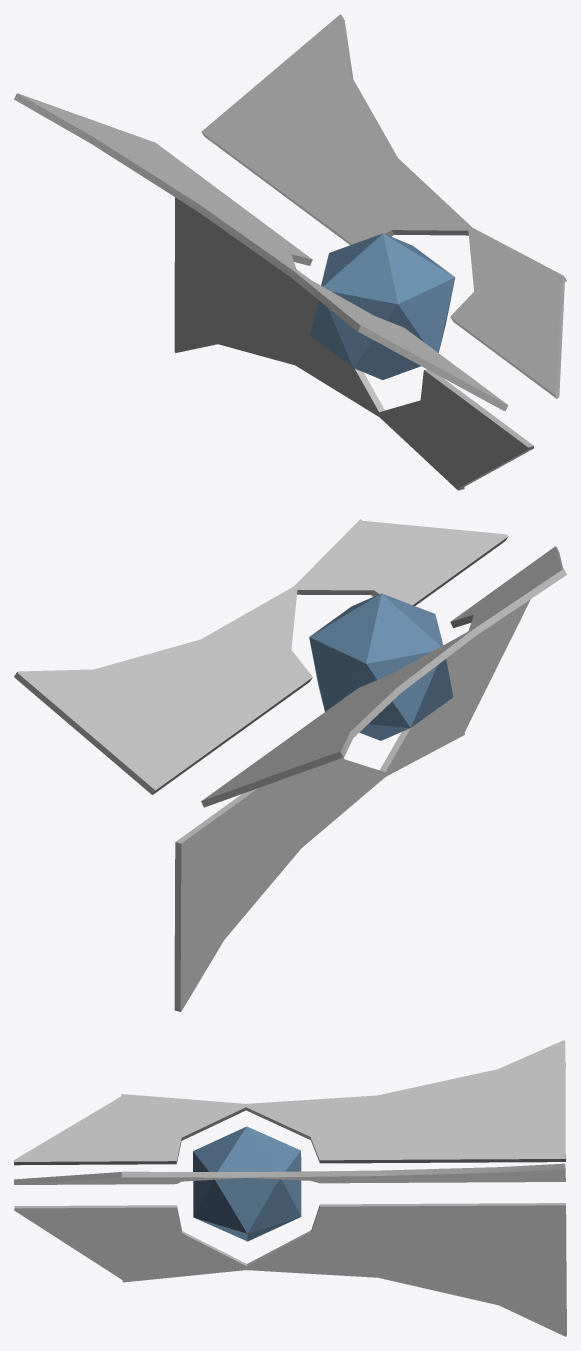
File: MainCharacterSword_3.fbx
3 views of the same model, one above another, from view 1: azimuth 30°, elevation 25°; view 2: azimuth 150°, elevation 25°; view 3: azimuth 270°, elevation 25° (orthographic). The views are drawn at different scales.
Parts seen in each view (by area): view 1: MainCharacter_Sword_3:Game_Sword_PreParedForAnimation:Stone_, MainCharacter_Sword_3:Game_Sword_PreParedForAnimation:Stone; view 2: MainCharacter_Sword_3:Game_Sword_PreParedForAnimation:Stone_, MainCharacter_Sword_3:Game_Sword_PreParedForAnimation:Stone; view 3: MainCharacter_Sword_3:Game_Sword_PreParedForAnimation:Stone_, MainCharacter_Sword_3:Game_Sword_PreParedForAnimation:Stone.
Boxes of the visible parts, x1,y1,x2,y2 form: MainCharacter_Sword_3:Game_Sword_PreParedForAnimation:Stone_: (14,14,566,490); MainCharacter_Sword_3:Game_Sword_PreParedForAnimation:Stone: (310,233,455,379); MainCharacter_Sword_3:Game_Sword_PreParedForAnimation:Stone_: (14,519,566,1011); MainCharacter_Sword_3:Game_Sword_PreParedForAnimation:Stone: (309,593,453,740); MainCharacter_Sword_3:Game_Sword_PreParedForAnimation:Stone_: (14,1040,566,1336); MainCharacter_Sword_3:Game_Sword_PreParedForAnimation:Stone: (193,1126,301,1241).
Bounding box in the file's own units: 13.29 × 11.51 × 24.69.
